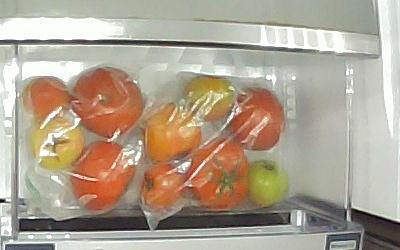tomato_vinyl: (72, 66, 145, 139), (71, 139, 136, 213), (187, 139, 249, 211), (231, 85, 285, 152), (146, 104, 203, 164), (28, 119, 85, 171), (182, 75, 234, 123), (21, 75, 71, 119), (247, 160, 290, 208), (142, 163, 183, 210)
